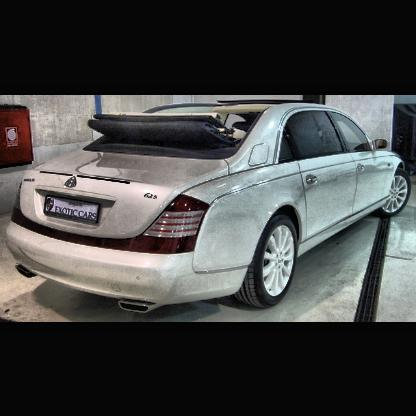Maybach Landaulet Convertible 2012: (6, 98, 412, 314)
